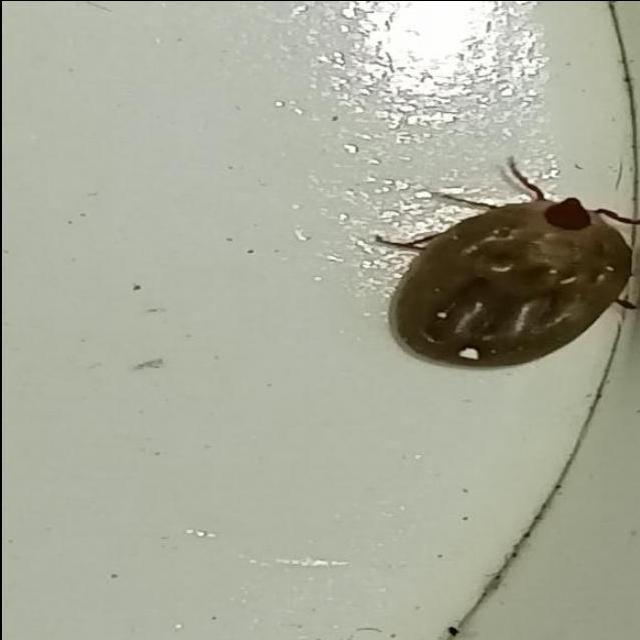Rhipicephalus Sanguineus-F-Fed: (364, 167, 640, 369)
